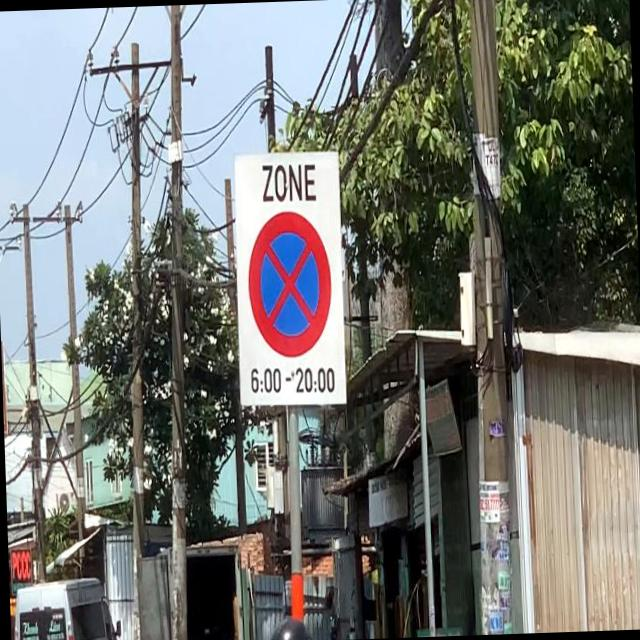P-130: (246, 210, 332, 356)
